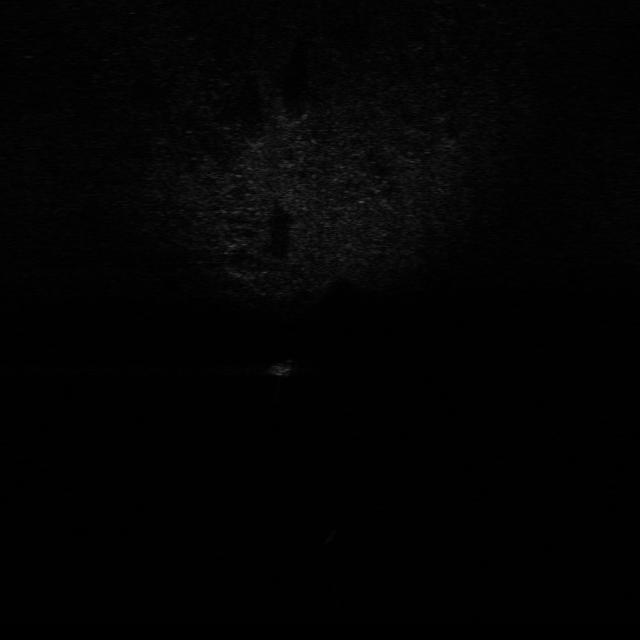cube: (262, 353, 297, 378)
